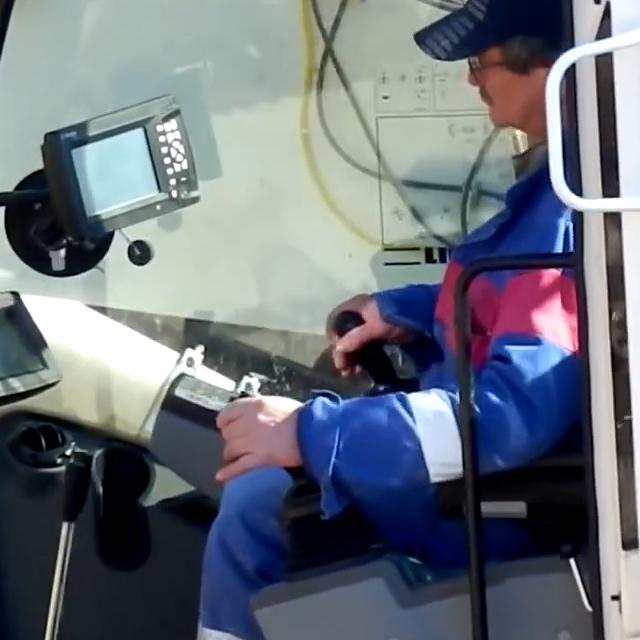NO-Hardhat: (463, 0, 572, 61)
NO-Mask: (477, 79, 541, 123)
Person: (190, 0, 587, 640)
Safety Vest: (414, 186, 576, 501)
machinery: (0, 0, 640, 640)
